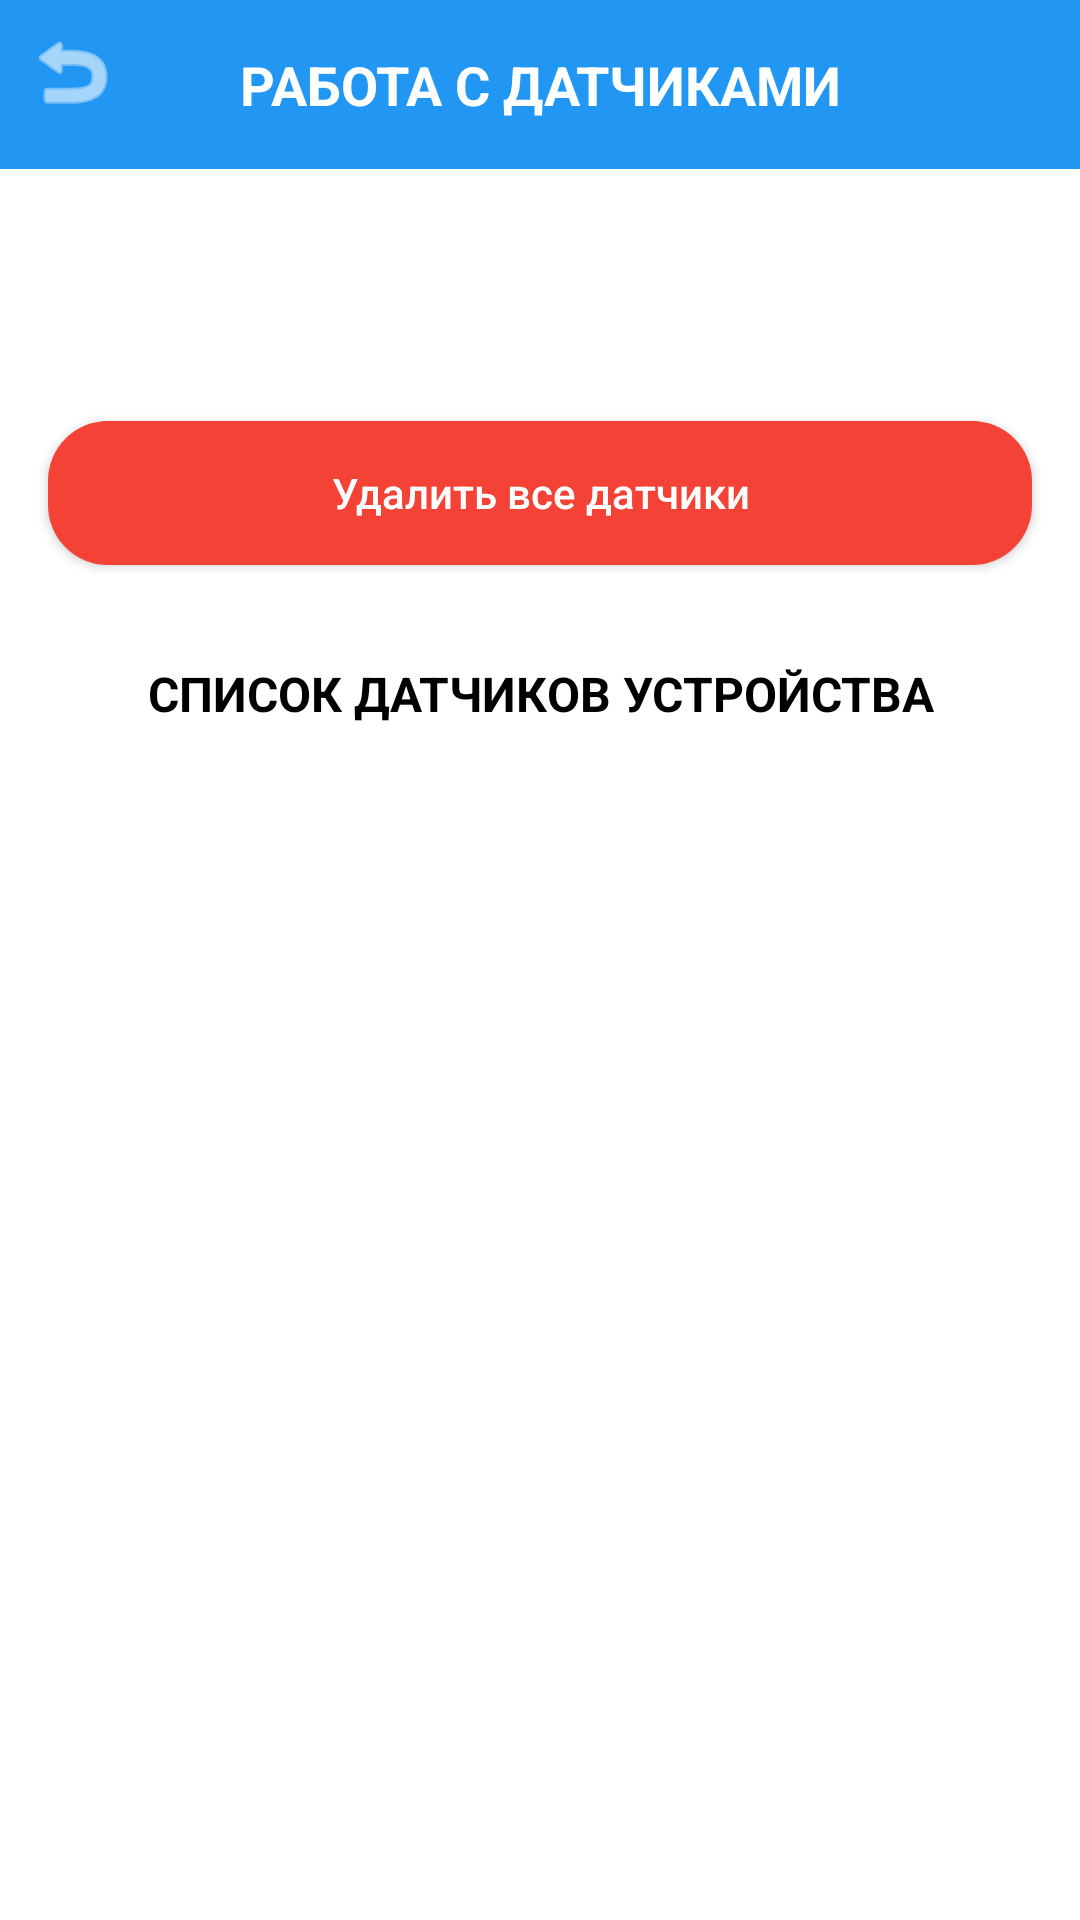

Named icons in this screenshot (1080 × 1920) and their centers, [x,y]:
Назад: [73,72]
